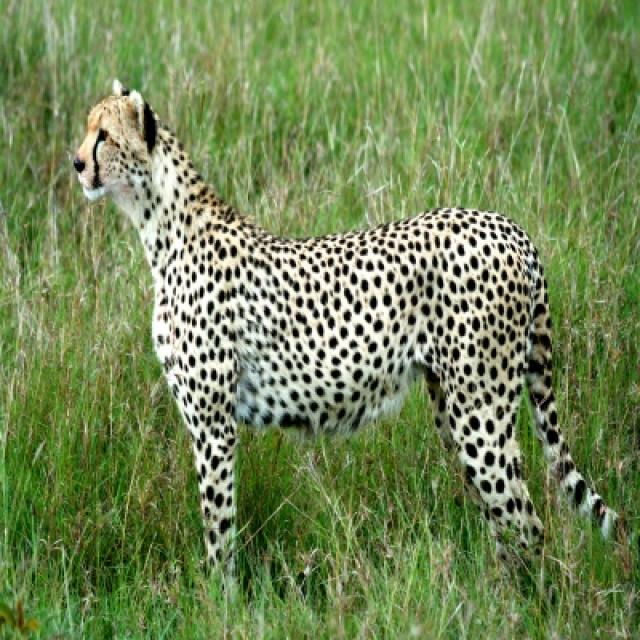Cheetah: (74, 80, 616, 563)
